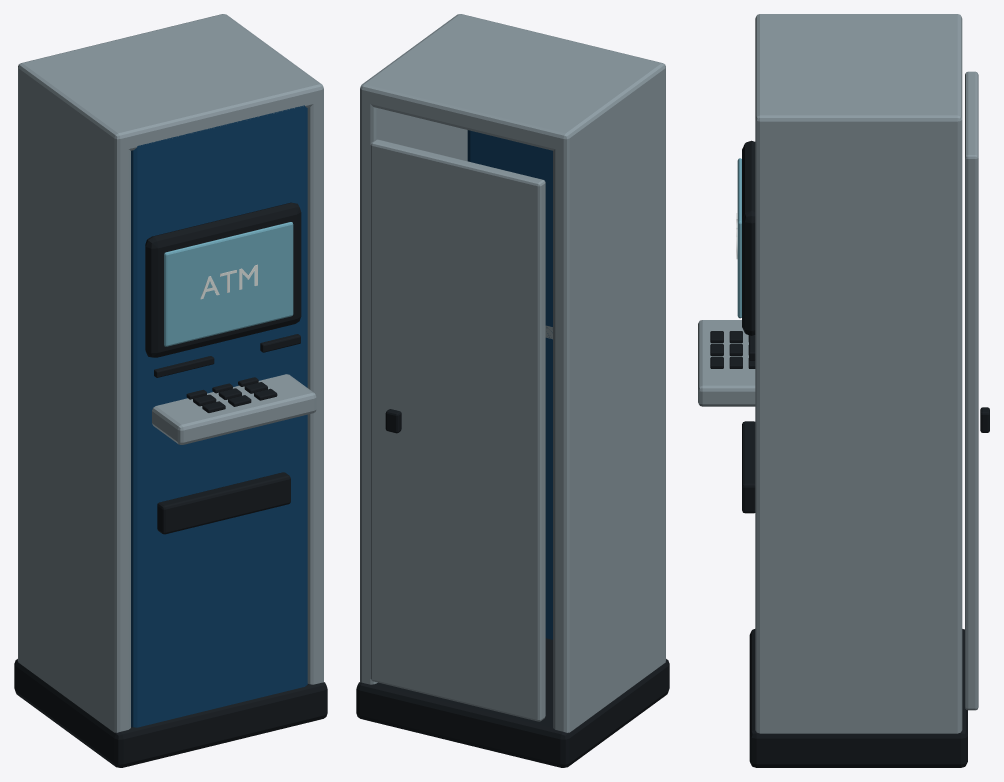
The model's file is control.glb.
3 renders of one model, left to right at view 1: azimuth 30°, elevation 25°; view 2: azimuth 150°, elevation 25°; view 3: azimuth 270°, elevation 25°, orthographic. The views are drawn at different scales.
Parts seen in each view (by area): view 1: BODY_Front, BODY_Side.001, BODY_Roof, SCREEN_Placeholder, PLINTH, BODY_Side, SCREEN_Bezel, KEYPAD_Console, CASH_Mouth, KEYPAD_Keys, RECEIPT_Slot; view 2: DOOR_Panel, BODY_Side.001, BODY_Roof, PLINTH, BODY_Side, BODY_Front; view 3: BODY_Side, BODY_Roof, DOOR_Panel, PLINTH, KEYPAD_Console, SCREEN_Bezel, CASH_Mouth, KEYPAD_Keys, SCREEN_Placeholder.
Part boxes in pixels (x1,y1,x2,y2): BODY_Front: (131,105,307,727); BODY_Side.001: (18,78,130,732); BODY_Roof: (18,14,323,151); SCREEN_Placeholder: (164,222,293,346); PLINTH: (14,659,327,767); BODY_Side: (307,100,323,684); SCREEN_Bezel: (145,202,301,357); KEYPAD_Console: (152,374,316,444); CASH_Mouth: (157,472,290,534); KEYPAD_Keys: (186,377,277,412); RECEIPT_Slot: (154,356,214,377); DOOR_Panel: (370,139,545,721); BODY_Side.001: (553,79,665,732); BODY_Roof: (360,14,665,151); PLINTH: (356,638,669,767); BODY_Side: (360,100,467,684); BODY_Front: (467,130,552,639); BODY_Side: (755,130,962,733); BODY_Roof: (755,14,962,133); DOOR_Panel: (965,71,978,710); PLINTH: (749,629,967,767); KEYPAD_Console: (698,320,755,406); SCREEN_Bezel: (742,140,755,335); CASH_Mouth: (742,421,755,513); KEYPAD_Keys: (710,331,755,368); SCREEN_Placeholder: (737,158,741,318).
Bounding box in the file's own units: 0.66 × 1.88 × 0.7625.
